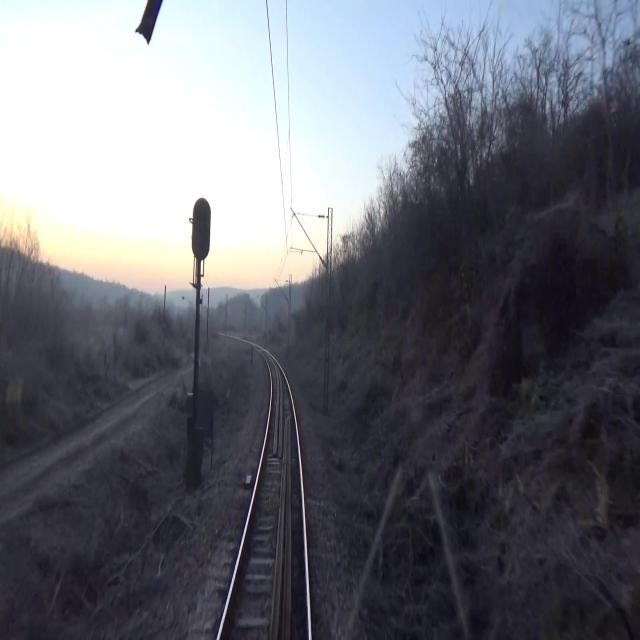rail-track: (221, 354, 307, 639)
